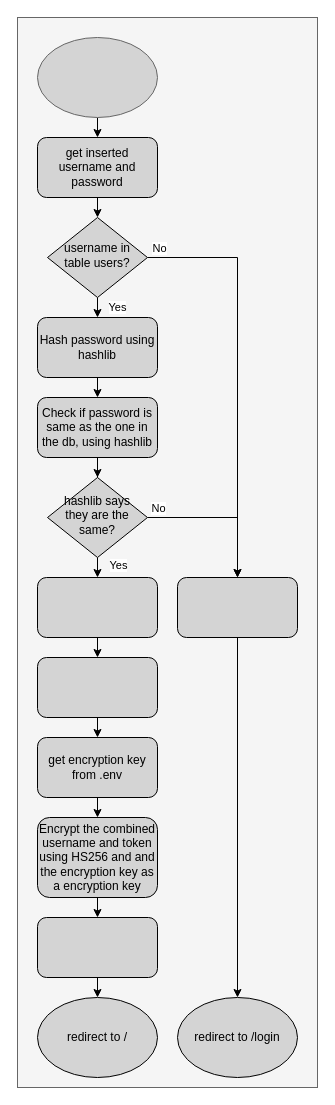
The diagram is 335 pixels wide and 1105 high, and some of its shapes have lost their labels. Each missing label, with the centre of its shape:
"Combine username and token" goes at (x=97, y=687).
"flash invalid username or password" goes at (x=237, y=607).
"Get current Unix Epoch Time and add to it 3600 (token lifetime)" goes at (x=97, y=607).
"save the token in the user session" goes at (x=97, y=947).
"User clicks submit in /login page" goes at (x=97, y=77).
